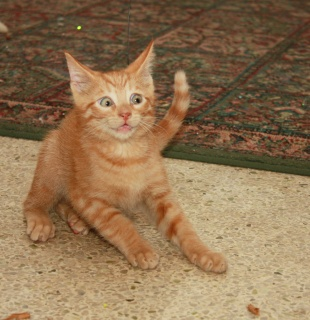Cat: (20, 38, 228, 273)
